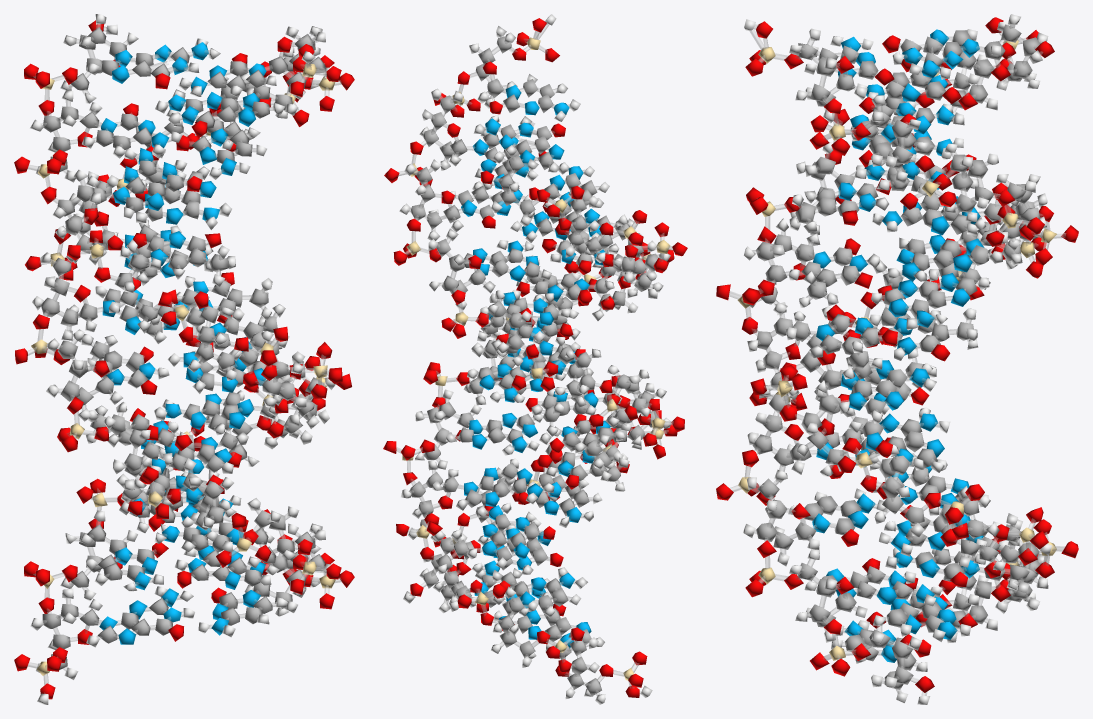
Rendered from adnlow.fbx.
3 views of the same model, side by side, from view 1: azimuth 30°, elevation 25°; view 2: azimuth 150°, elevation 25°; view 3: azimuth 270°, elevation 25° (orthographic). The views are drawn at different scales.
Visible parts, largest first — view 1: adn; view 2: adn; view 3: adn.
Part boxes in pixels (bbox=[...]): adn: bbox=[14, 14, 354, 704]; adn: bbox=[383, 14, 687, 704]; adn: bbox=[716, 14, 1078, 704].
Bounding box in the file's own units: 2058 × 4529 × 2136.
